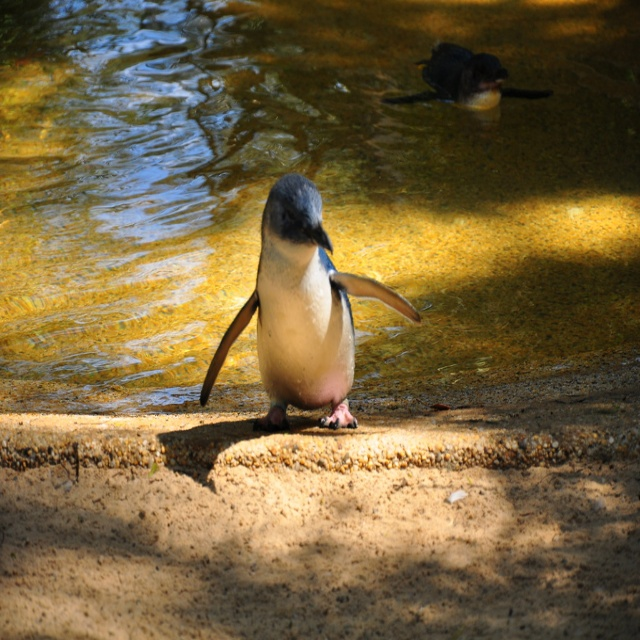Penguin: (205, 169, 422, 433)
